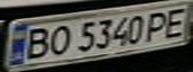0: (124, 12, 151, 45)
3: (93, 17, 115, 51)
4: (112, 15, 133, 47)
5: (75, 19, 96, 53)
B: (18, 25, 54, 61)
E: (157, 6, 193, 39)
O: (42, 24, 75, 56)
P: (142, 9, 175, 43)
